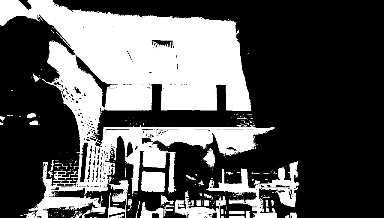H: (131, 149, 174, 192)
